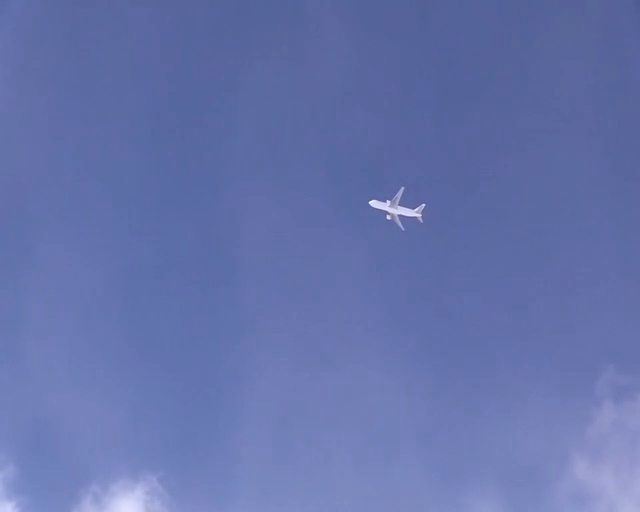AIRPLANE: (368, 186, 425, 231)
